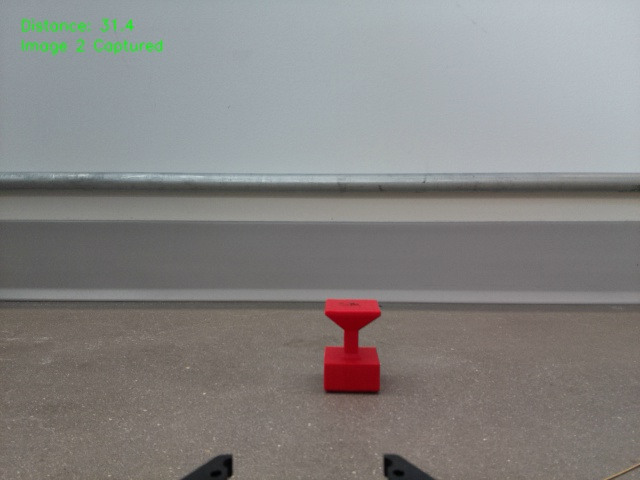block: (323, 298, 383, 394)
